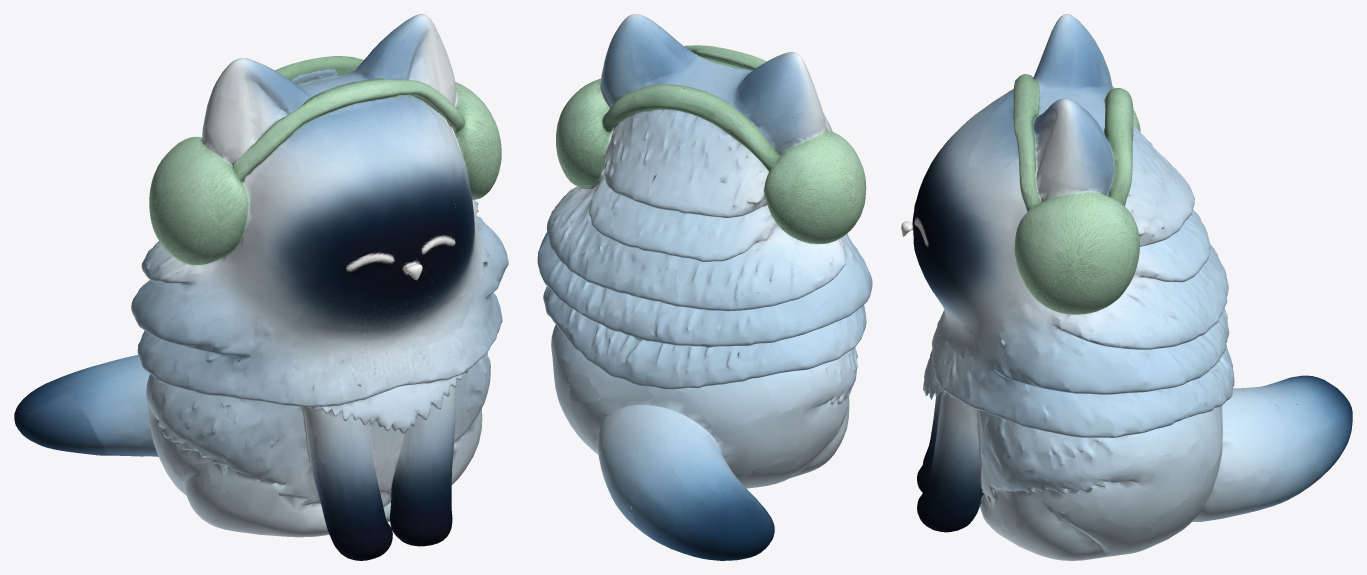
File: mint-earmuffs-DAlRX5wG.glb
3 renders of one model, left to right at view 1: azimuth 30°, elevation 25°; view 2: azimuth 150°, elevation 25°; view 3: azimuth 270°, elevation 25°, orthographic. The views are drawn at different scales.
Visible parts, largest first — view 1: worn-mint-earmuffs; view 2: worn-mint-earmuffs; view 3: worn-mint-earmuffs.
Boxes of the visible parts, x1,y1,x2,y2 form: worn-mint-earmuffs: (14,14,508,560); worn-mint-earmuffs: (537,14,872,560); worn-mint-earmuffs: (901,14,1352,560).
Size of the model in its own units: 1.54 by 1.9 by 1.71.
1 material, 1 textured.
